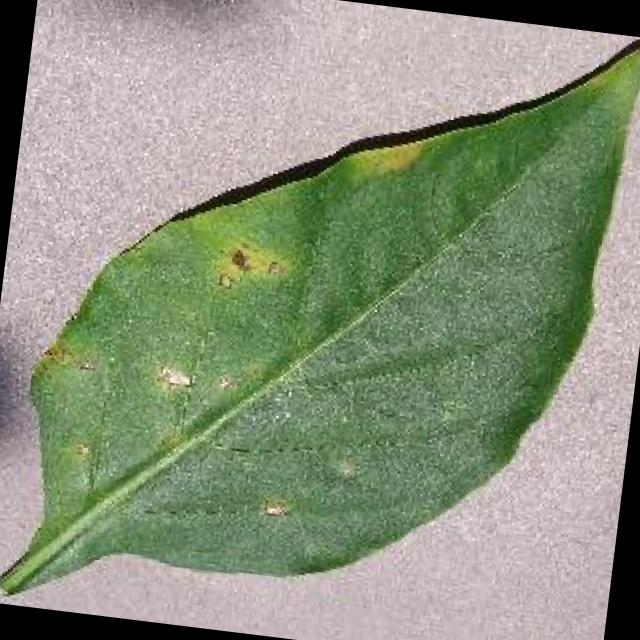Chilli_Bacterial_Spot: (0, 0, 640, 640), (334, 124, 428, 194), (205, 232, 292, 300), (0, 338, 25, 443), (148, 357, 198, 398), (328, 448, 365, 487), (34, 336, 76, 370), (222, 243, 255, 276), (255, 493, 290, 522), (208, 264, 239, 294), (260, 252, 288, 280)
